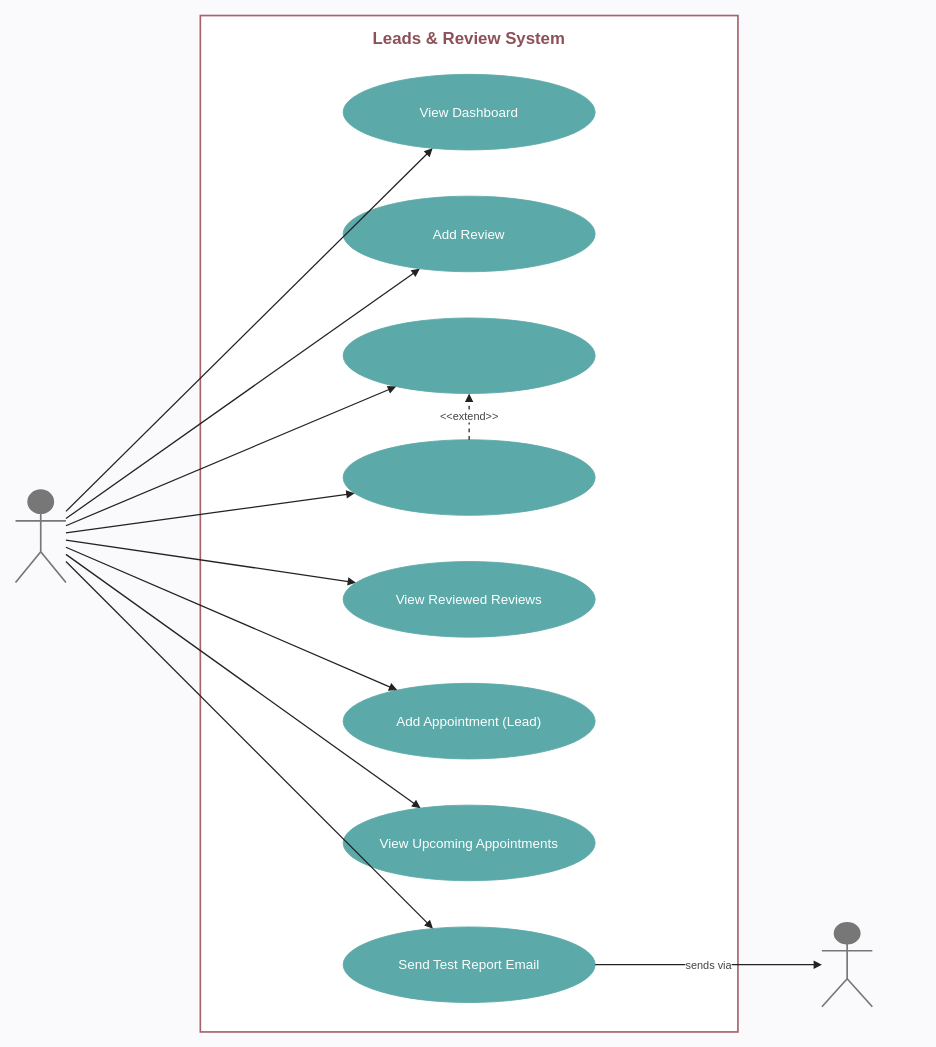
The diagram is 936 pixels wide and 1047 high, and some of its shapes have lost their labels. Each missing label, with the centre of its shape:
"Email Service (Resend)" goes at (847,964).
"Mark Review as Reviewed" goes at (468,477).
"User" goes at (40,536).
"View New Reviews" goes at (468,355).
